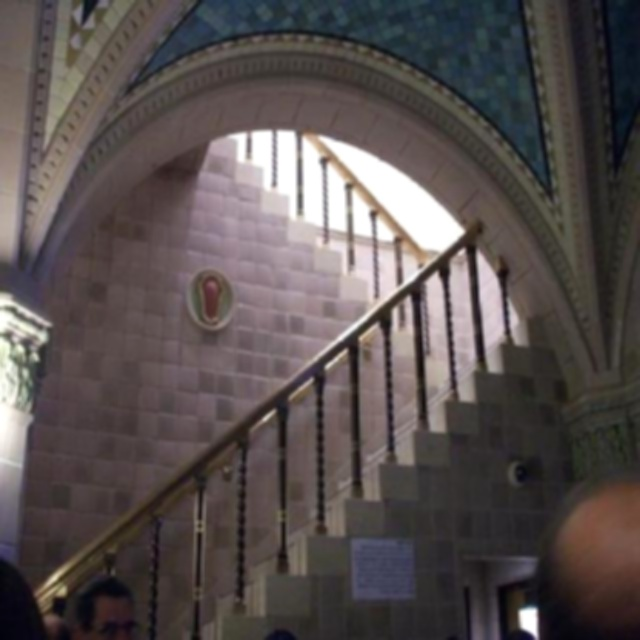stair: (180, 318, 532, 640), (223, 131, 446, 386)
